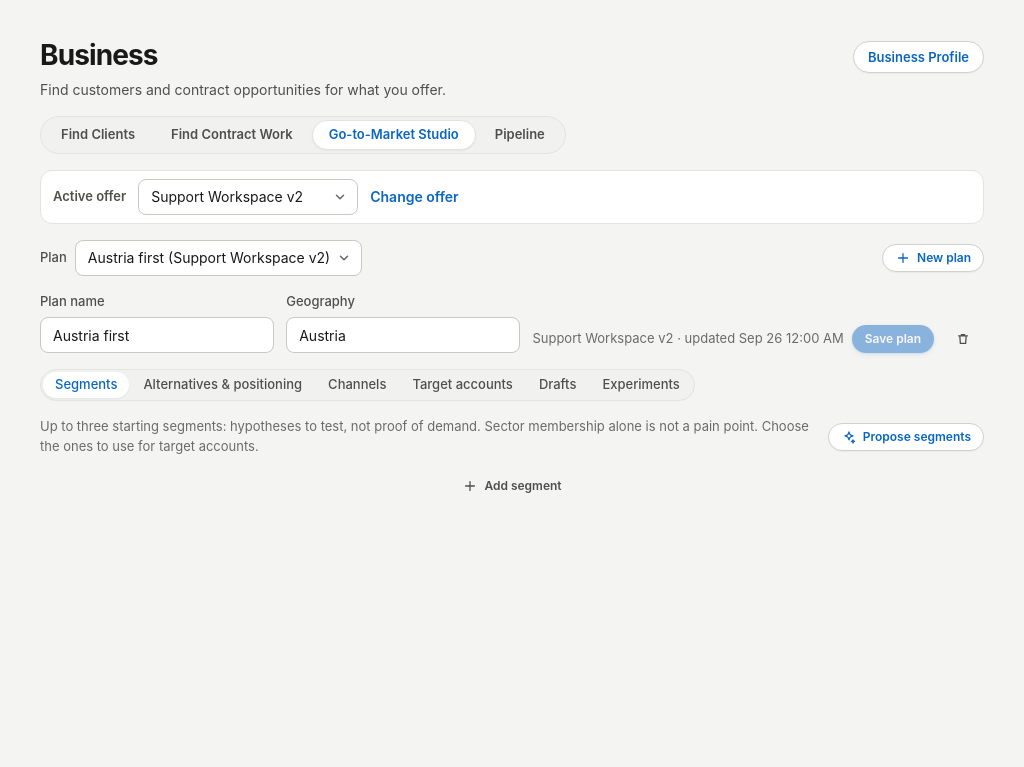
it: BusinessPage › shows experiment results as numerator / denominator, user-reported
Click the tab "Experiments" at [641, 385], box [590,372,692,398]
(page scrolled)
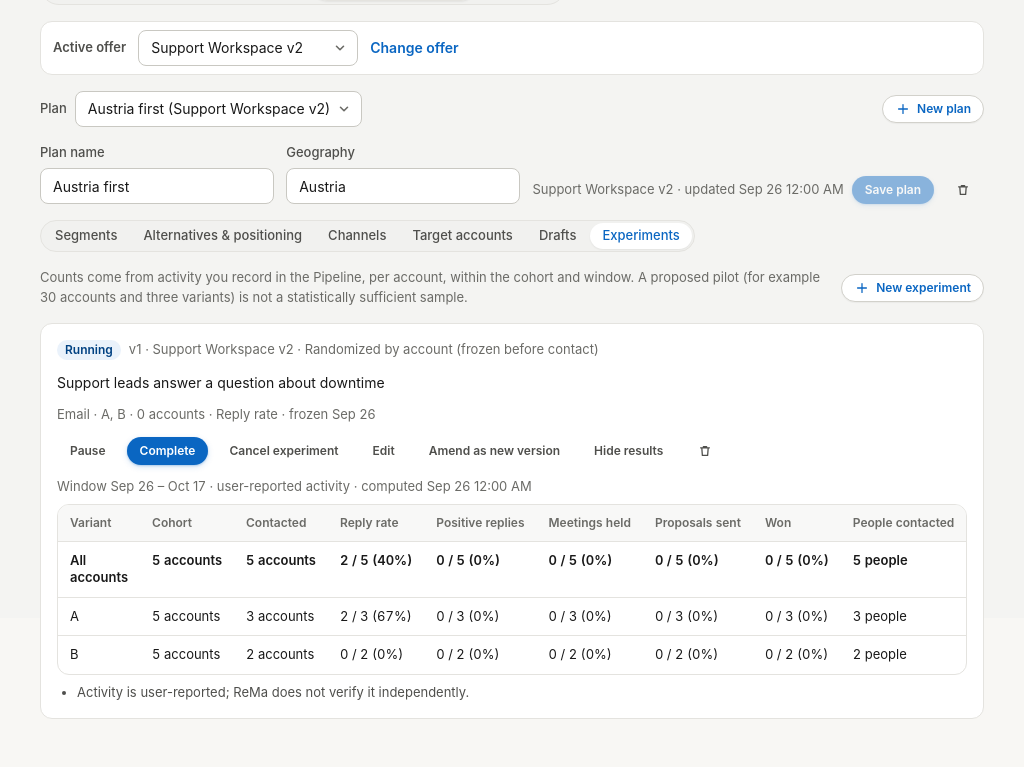
Expected: the text "2 / 5 (40%)" is shown, [328,541,424,597]
Expected: the text "2 / 3 (67%)" is shown, [328,597,424,636]
Expected: the text "user-reported activity" is shown, [209,478,427,494]
